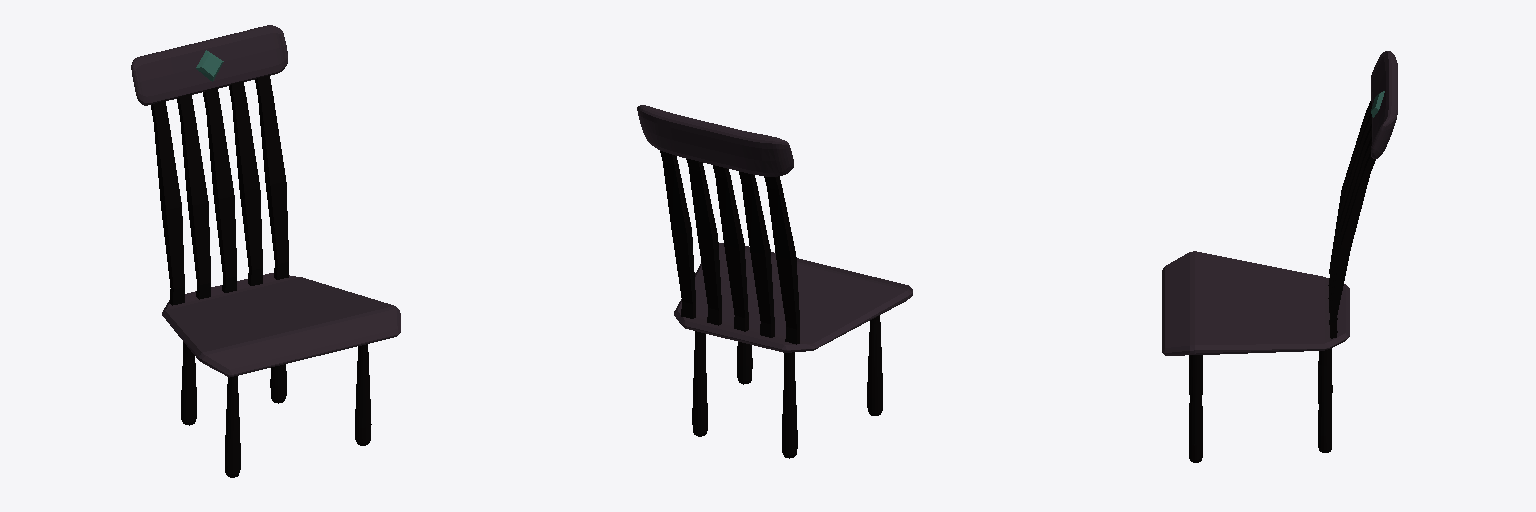
The model's file is ChairMeshModel.obj.
3 renders of one model, left to right at view 1: azimuth 30°, elevation 25°; view 2: azimuth 150°, elevation 25°; view 3: azimuth 270°, elevation 25°, orthographic.
Visible parts, largest first — view 1: Leg7; view 2: Leg7; view 3: Leg7.
Boxes of the visible parts, x1=… form: Leg7: x1=131, y1=25, x2=400, y2=477; Leg7: x1=637, y1=105, x2=912, y2=458; Leg7: x1=1162, y1=51, x2=1397, y2=462.
Size of the model in its own units: 9.2 by 15.27 by 9.44.